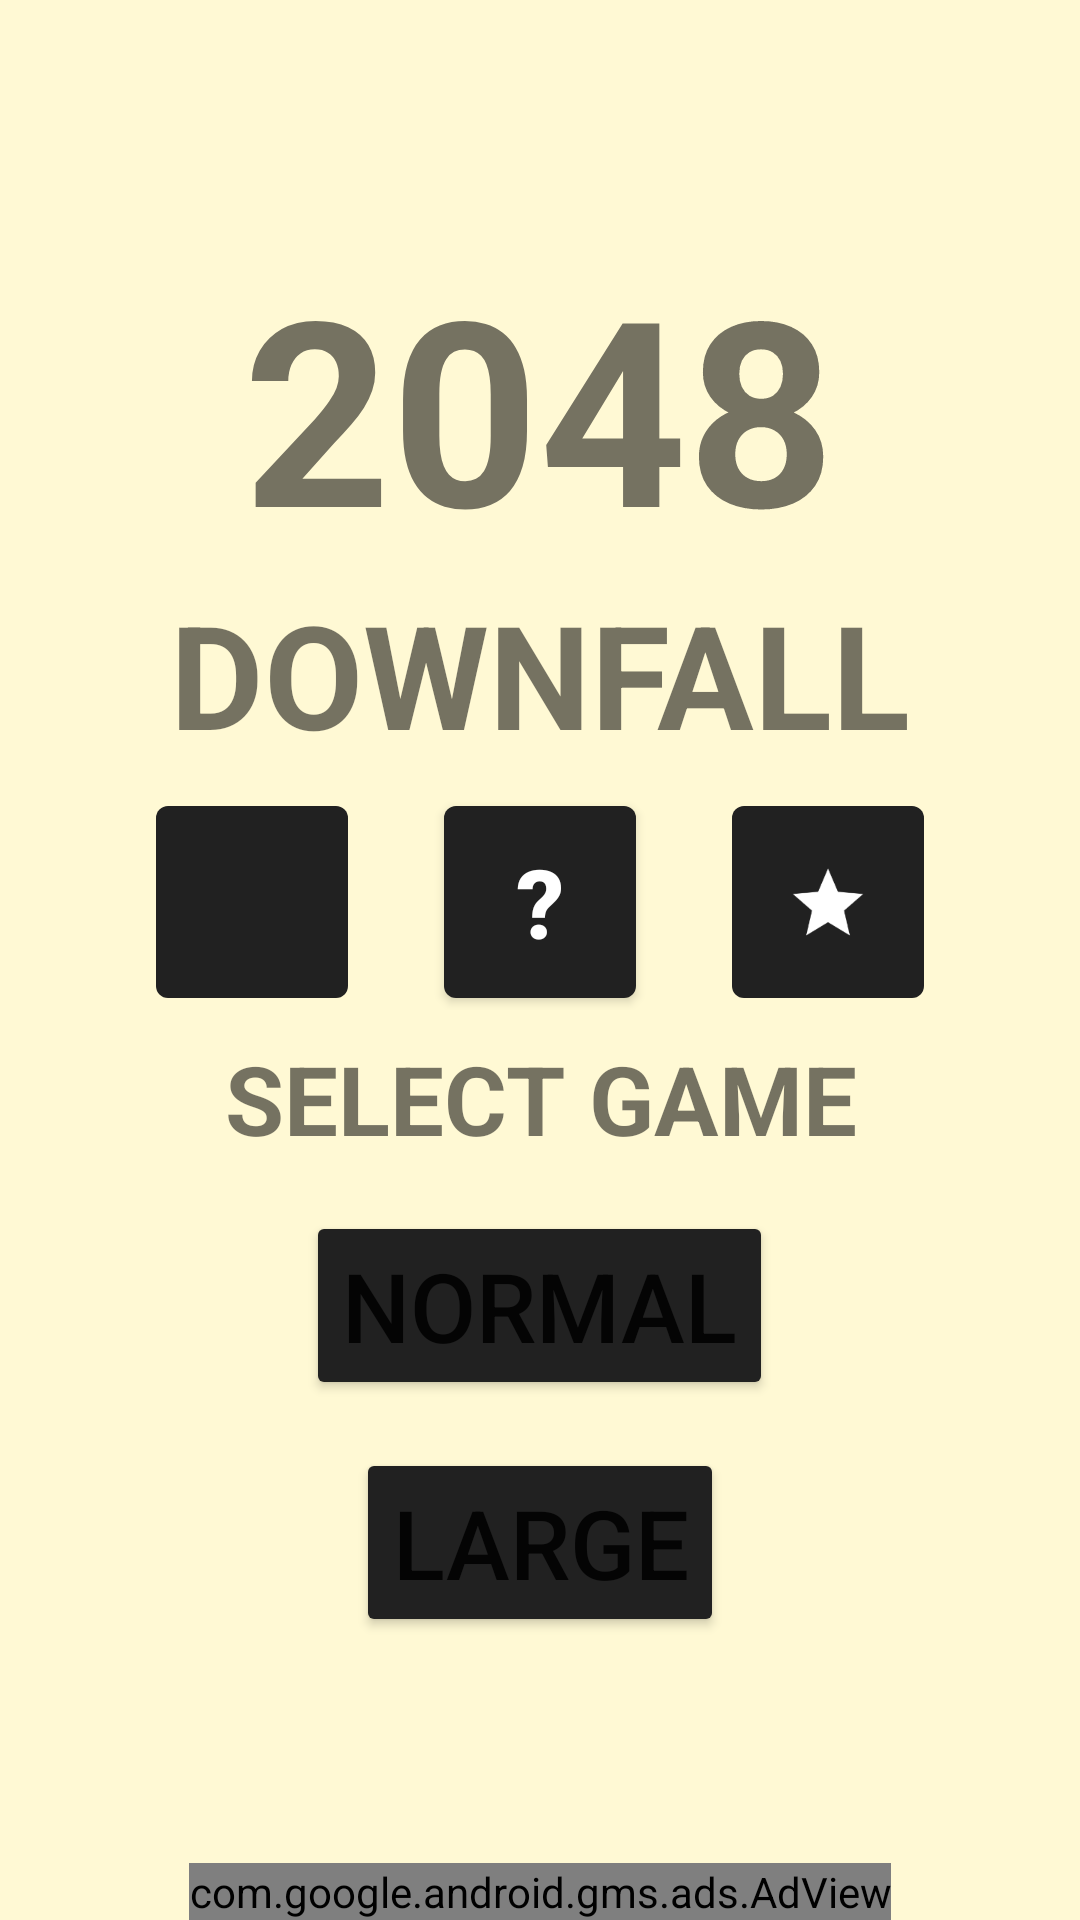

Screen size 1080w x 1920h. Icon name, then its box in pixels as (x1, y1, x2, y2):
star: (732, 806, 924, 998)
